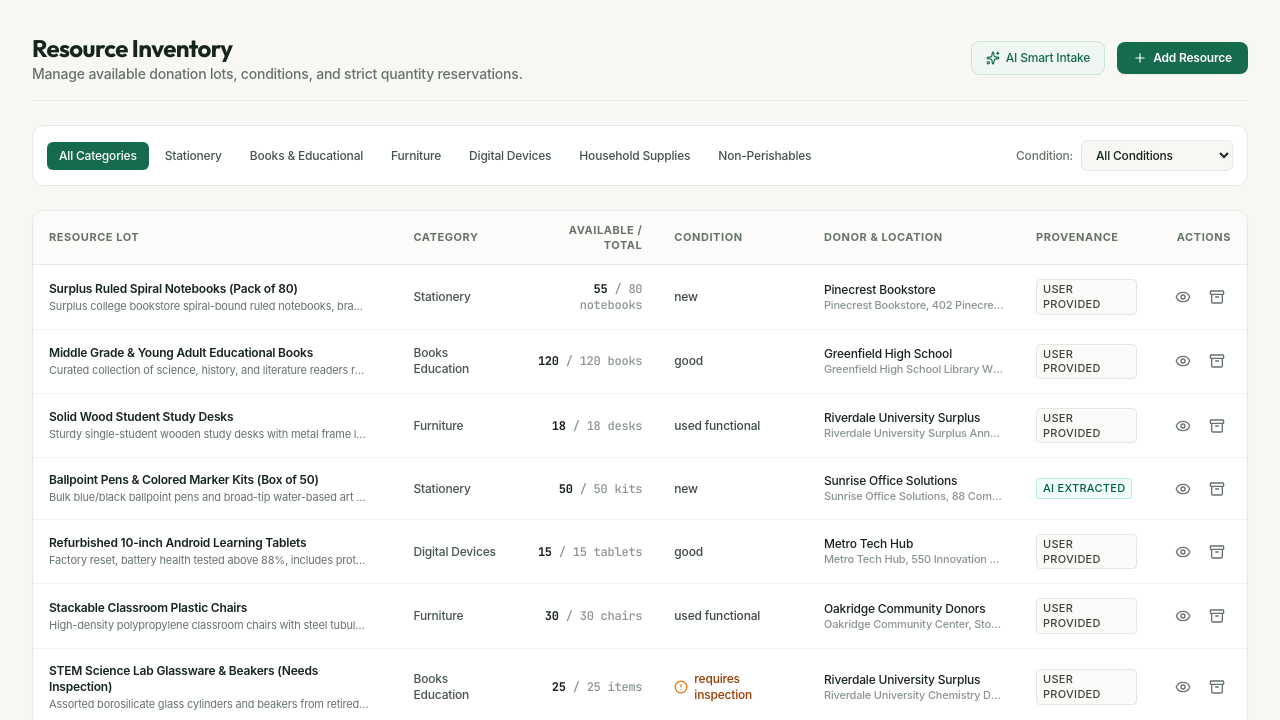
InventoryView Component & Accessibility › opens the detail specifications modal when view button is clicked
This screenshot has width=1280, height=720.
Click the button named "View specifications for" at (1183, 297), box left=1169, top=283, right=1197, bottom=311
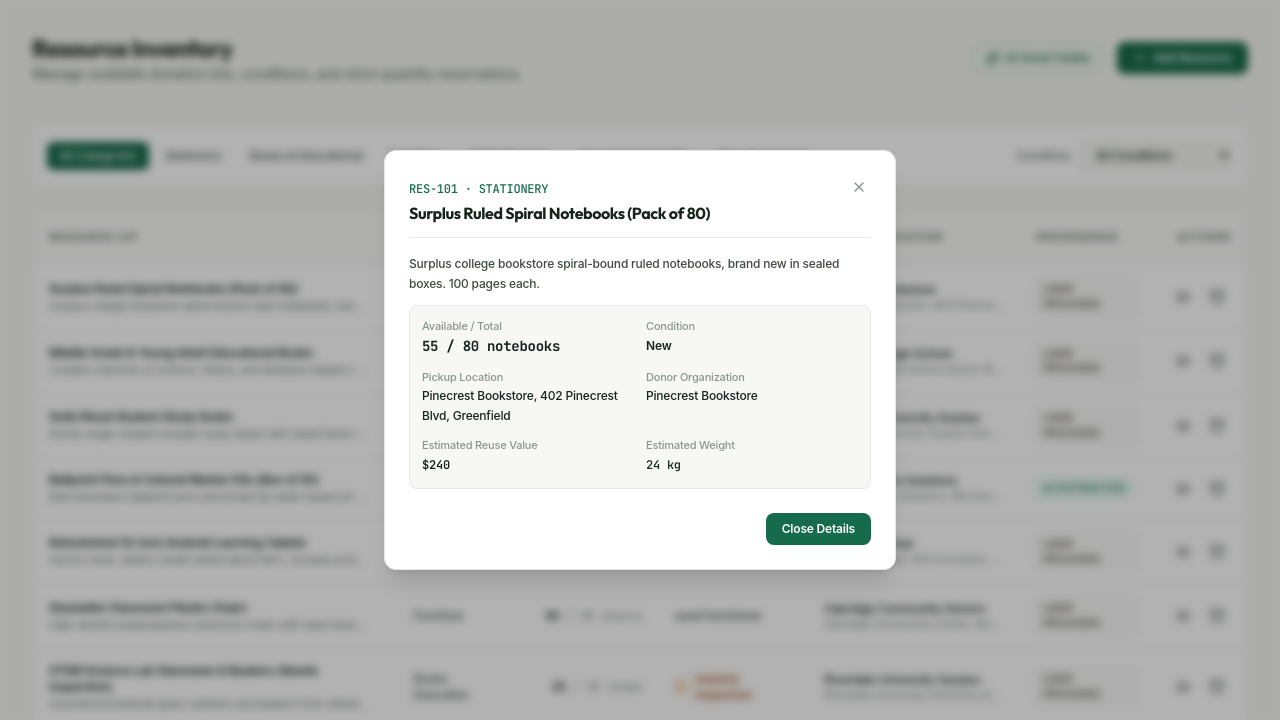
Now the dialog is shown
Now the button "Close Details" is shown
Click the button "Close Details" at (818, 529), box left=766, top=513, right=871, bottom=545
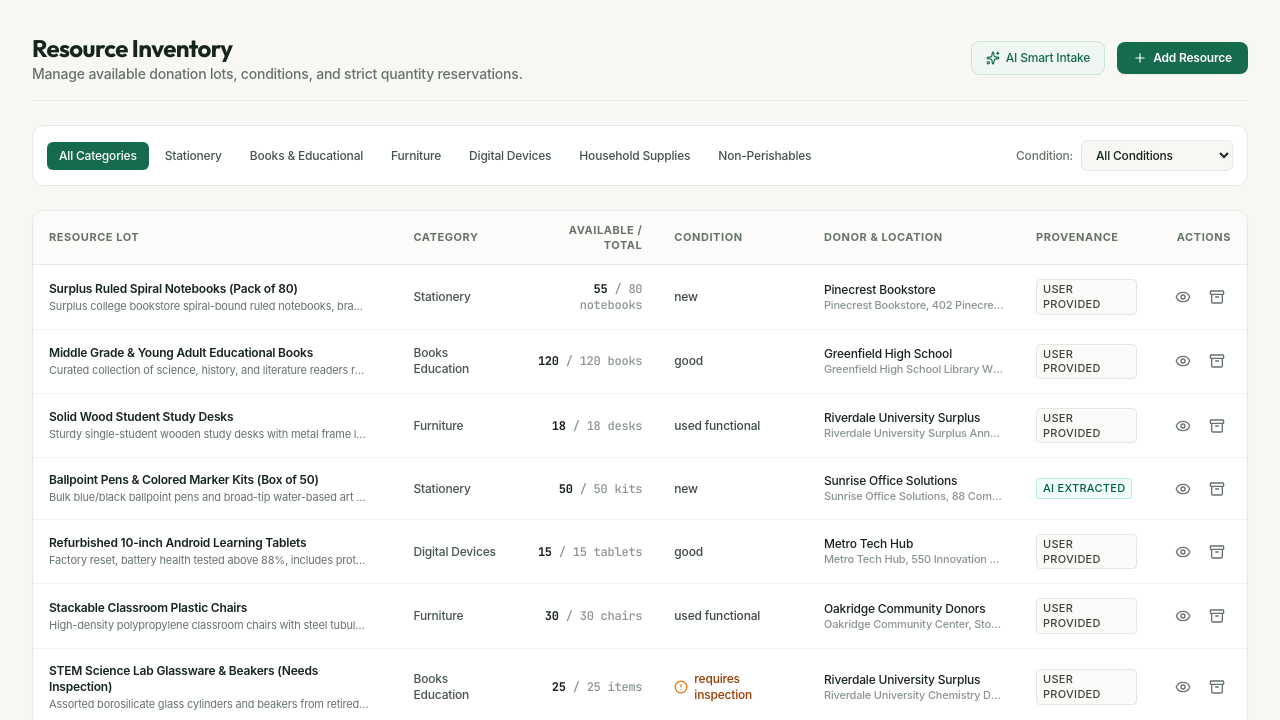
Now the dialog is gone
